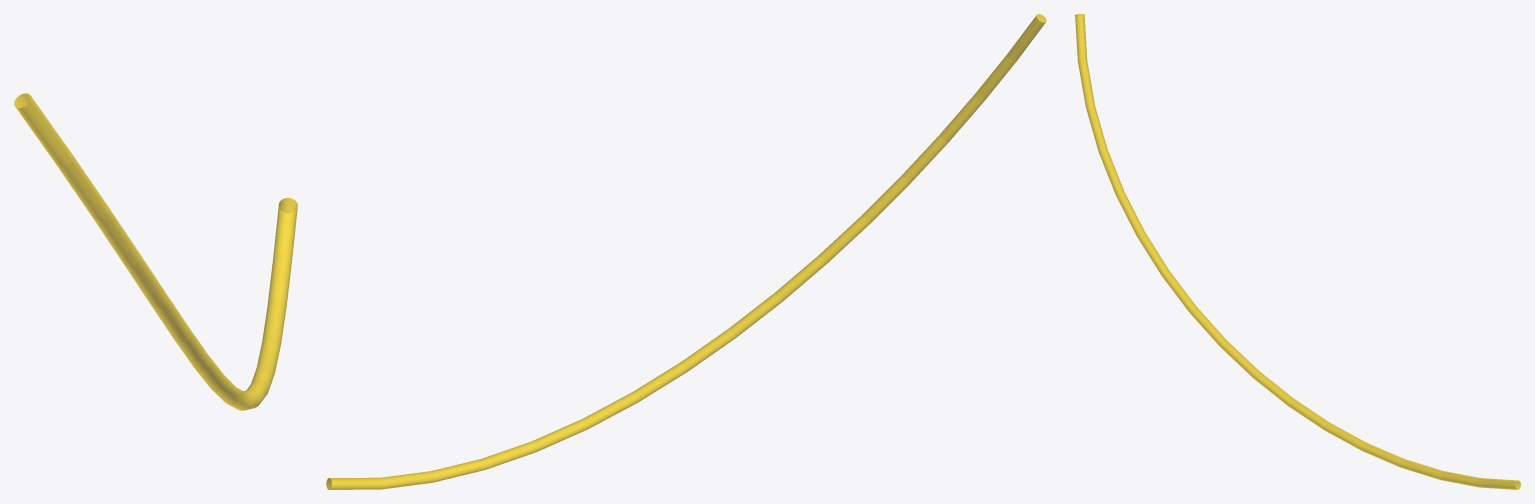
Rendered from Event_27938768_track_29.fbx.
3 views of the same model, side by side, from view 1: azimuth 30°, elevation 25°; view 2: azimuth 150°, elevation 25°; view 3: azimuth 270°, elevation 25° (orthographic). The views are drawn at different scales.
Parts seen in each view (by area): view 1: Model; view 2: Model; view 3: Model.
Part boxes in pixels (x1,y1,x2,y2): Model: (14, 93, 297, 410); Model: (326, 14, 1046, 489); Model: (1075, 14, 1520, 489).
Bounding box in the file's own units: 1.74 × 1.47 × 1.87.
